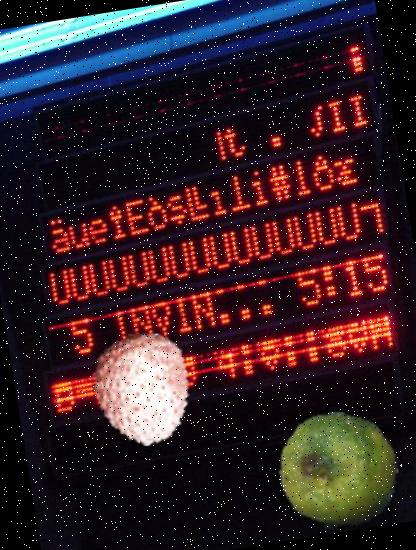Limes: (270, 404, 407, 540)
Lychee: (77, 326, 205, 454)
